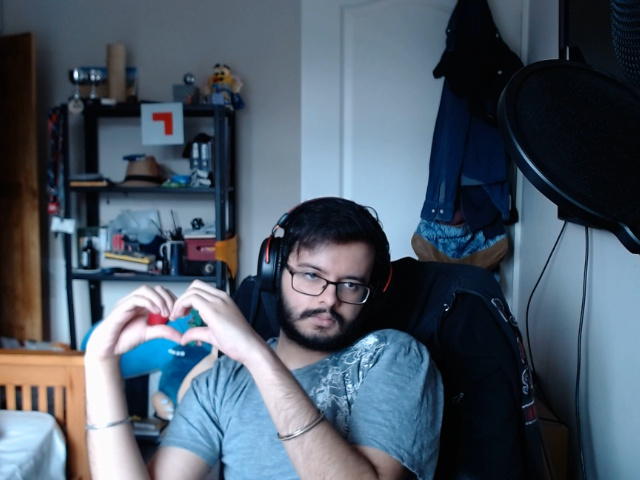Heart: (103, 276, 234, 352)
